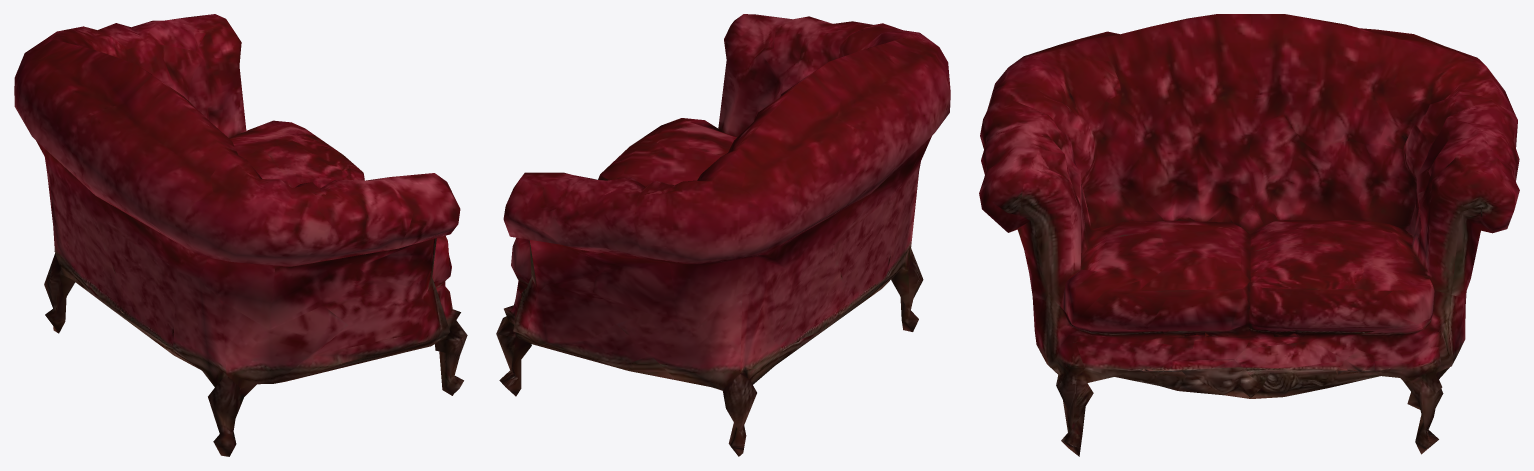
File: sofa.glb
3 renders of one model, left to right at view 1: azimuth 30°, elevation 25°; view 2: azimuth 150°, elevation 25°; view 3: azimuth 270°, elevation 25°, orthographic. The views are drawn at different scales.
Parts seen in each view (by area): view 1: tripo_node_9cf6053c-0d78-432b-ab21-cce24f232e10; view 2: tripo_node_9cf6053c-0d78-432b-ab21-cce24f232e10; view 3: tripo_node_9cf6053c-0d78-432b-ab21-cce24f232e10.
Boxes of the visible parts, x1,y1,x2,y2 form: tripo_node_9cf6053c-0d78-432b-ab21-cce24f232e10: (14,14,467,456); tripo_node_9cf6053c-0d78-432b-ab21-cce24f232e10: (496,14,950,456); tripo_node_9cf6053c-0d78-432b-ab21-cce24f232e10: (979,14,1519,456).
Bounding box in the file's own units: 0.671 × 0.6772 × 1.
Materials: 1 (1 with a texture image).
